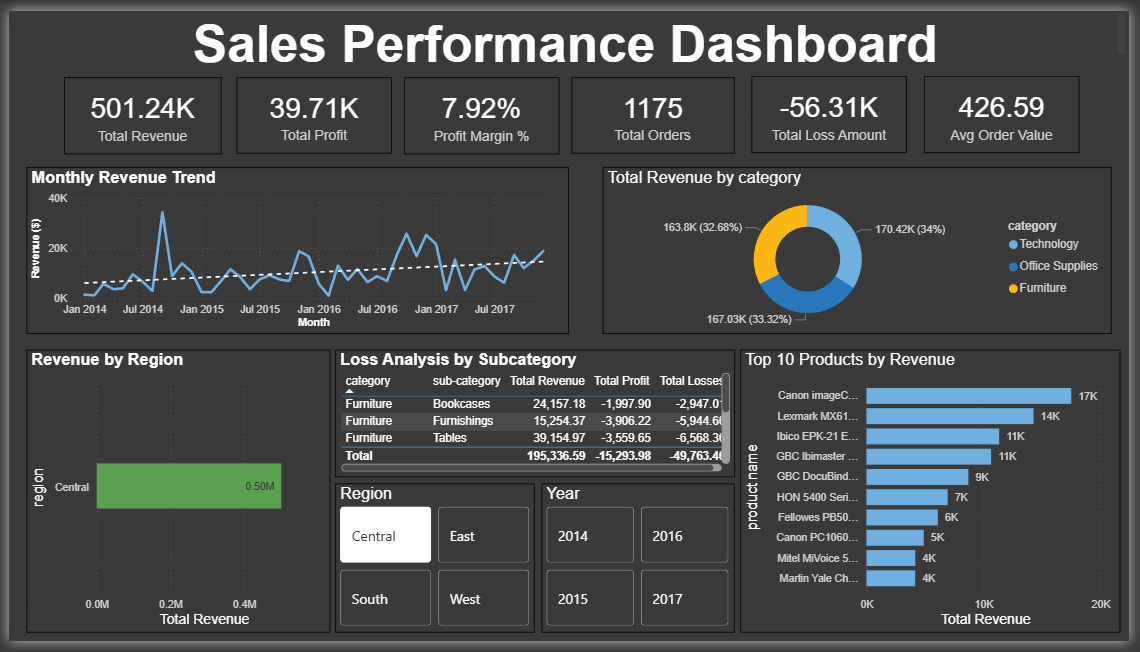

Layout of this report page (visuals, bound fields, positions):
{"tool":"powerbi","page":{"name":"Page 1","canvas":[1280,720],"ordinal":0},"visuals":[{"type":"card","fields":{"Values":["superstore_cleaned.Total Revenue"]},"box":[62.9,75.3,180.4,88.3],"z":0},{"type":"card","fields":{"Values":["superstore_cleaned.Total Profit"]},"box":[259.5,75.3,177.9,87.1],"z":1000},{"type":"card","fields":{"Values":["superstore_cleaned.Profit Margin %"]},"box":[452.1,75.3,177.9,88.3],"z":2000},{"type":"card","fields":{"Values":["superstore_cleaned.Total Losses"]},"box":[848.4,74,177.9,88.3],"z":3000},{"type":"card","fields":{"Values":["superstore_cleaned.Avg Order Value"]},"box":[1046,74,177.9,88.3],"z":4000},{"type":"textbox","box":[0,0,1280,64.3],"z":5000},{"type":"lineChart","title":"Monthly Revenue Trend","fields":{"Category":["superstore_cleaned.yearmonth.Variation.Date Hierarchy.Year"],"Y":["superstore_cleaned.Total Revenue"]},"box":[20,178.6,620,190],"z":6000},{"type":"clusteredBarChart","title":"Revenue by Region","fields":{"Category":["superstore_cleaned.region"],"Y":["superstore_cleaned.Total Revenue"]},"box":[20,387.1,347.1,322.9],"z":7000},{"type":"clusteredBarChart","title":"Top 10 Products by Revenue","fields":{"Category":["superstore_cleaned.product name"],"Y":["superstore_cleaned.Total Revenue"]},"box":[835.7,387.1,434.3,322.9],"z":8000},{"type":"tableEx","title":"Loss Analysis by Subcategory","fields":{"Values":["superstore_cleaned.category","superstore_cleaned.sub-category","superstore_cleaned.Total Revenue","superstore_cleaned.Total Profit","superstore_cleaned.Total Losses"]},"box":[372.9,387.1,457.1,145.7],"z":9000},{"type":"card","fields":{"Values":["superstore_cleaned.Total Orders"]},"box":[643.5,75.3,186.5,87.1],"z":10000},{"type":"donutChart","fields":{"Category":["superstore_cleaned.category"],"Y":["superstore_cleaned.Total Revenue"]},"box":[678.6,178.6,581.4,190],"z":11000},{"type":"advancedSlicerVisual","fields":{"Values":["superstore_cleaned.region"]},"box":[373,540,228,170],"z":11001},{"type":"advancedSlicerVisual","fields":{"Values":["superstore_cleaned.year"]},"box":[609,540,221,170],"z":11002}]}

Visuals, with their boxes in screenshot pixels (x1, y1, x2, y2), scaled from the page's 1280x720 canvas onto the 1140x652 screenshot:
card - superstore_cleaned.Total Revenue: [x1=56, y1=68, x2=217, y2=148]
card - superstore_cleaned.Total Profit: [x1=231, y1=68, x2=390, y2=147]
card - superstore_cleaned.Profit Margin %: [x1=403, y1=68, x2=561, y2=148]
card - superstore_cleaned.Total Losses: [x1=756, y1=67, x2=914, y2=147]
card - superstore_cleaned.Avg Order Value: [x1=932, y1=67, x2=1090, y2=147]
textbox: [x1=0, y1=0, x2=1139, y2=58]
"Monthly Revenue Trend" lineChart: [x1=18, y1=162, x2=570, y2=334]
"Revenue by Region" clusteredBarChart: [x1=18, y1=351, x2=327, y2=643]
"Top 10 Products by Revenue" clusteredBarChart: [x1=744, y1=351, x2=1131, y2=643]
"Loss Analysis by Subcategory" tableEx: [x1=332, y1=351, x2=739, y2=482]
card - superstore_cleaned.Total Orders: [x1=573, y1=68, x2=739, y2=147]
donutChart - superstore_cleaned.category x superstore_cleaned.Total Revenue: [x1=604, y1=162, x2=1122, y2=334]
advancedSlicerVisual - superstore_cleaned.region: [x1=332, y1=489, x2=535, y2=643]
advancedSlicerVisual - superstore_cleaned.year: [x1=542, y1=489, x2=739, y2=643]
